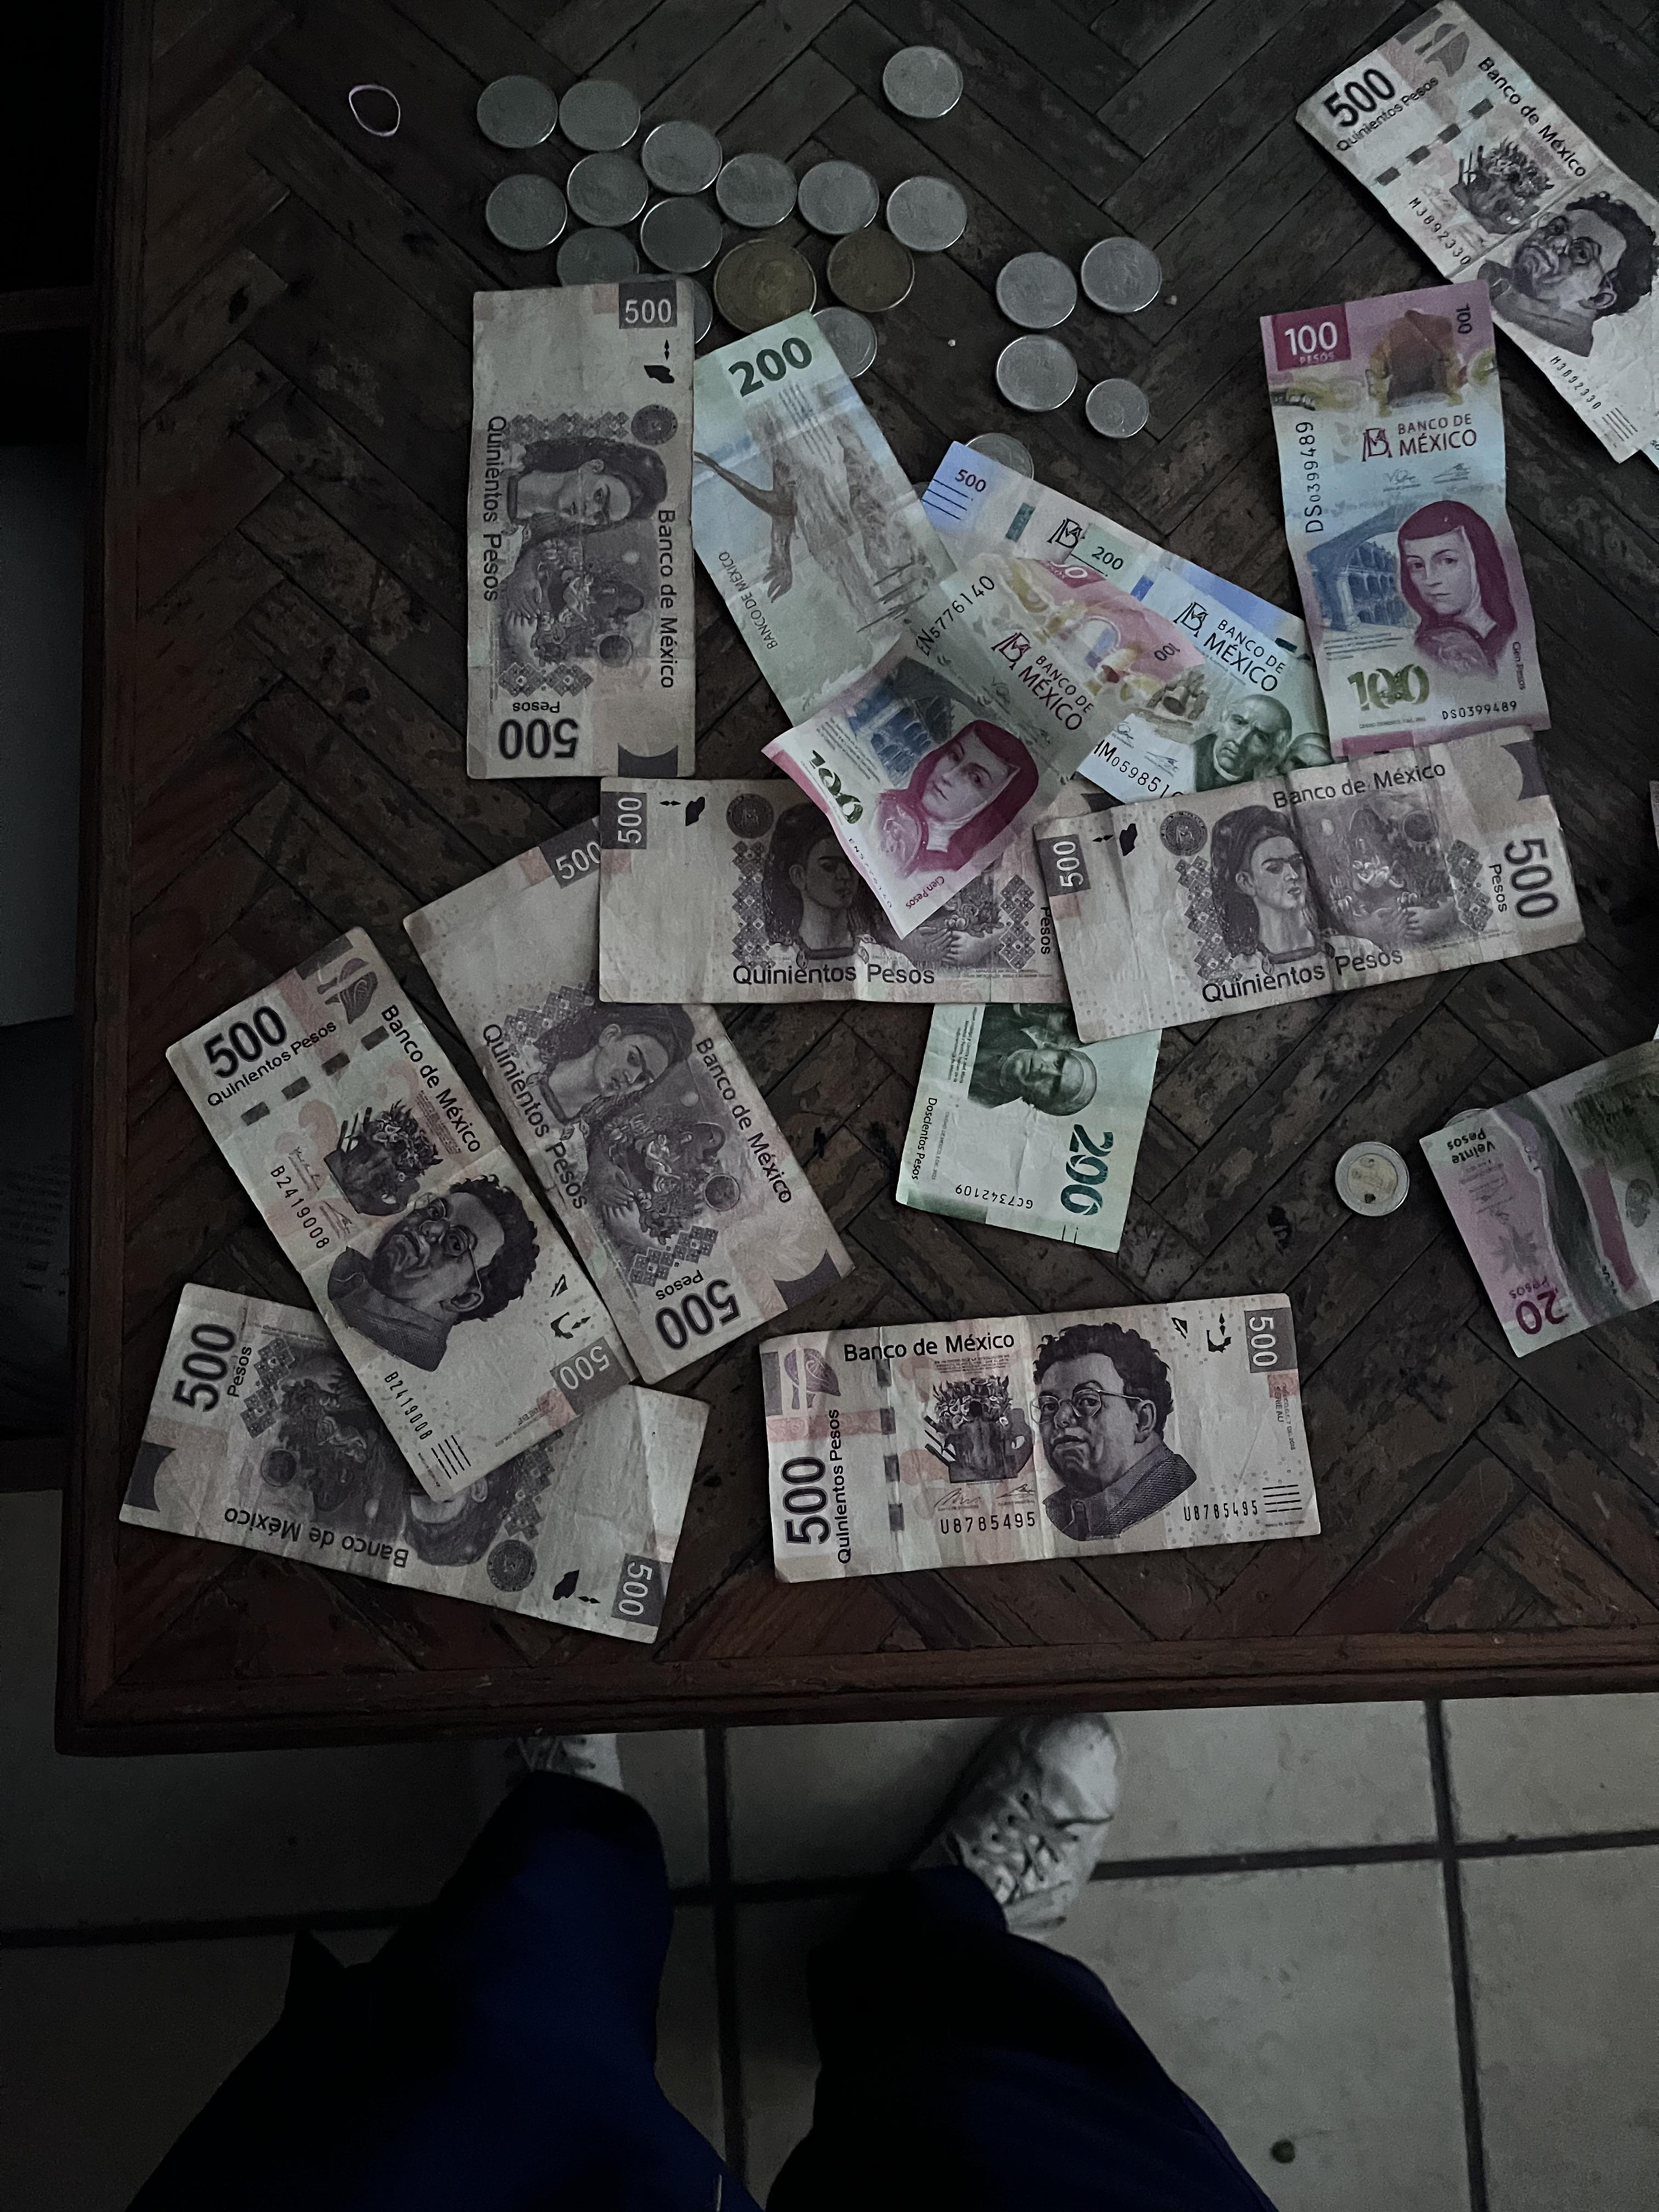100: (755, 556, 1213, 932), (1253, 275, 1551, 751)
20: (1420, 1014, 1659, 1374)
200: (680, 320, 969, 712), (1073, 529, 1342, 808), (892, 1001, 1155, 1264)
500: (155, 923, 638, 1491), (404, 820, 849, 1381), (122, 1271, 699, 1649), (1030, 733, 1600, 1040), (1302, 2, 1659, 484), (760, 1299, 1326, 1590), (453, 279, 714, 796), (596, 765, 1087, 1019)
500 nuevo: (925, 441, 1103, 559)
